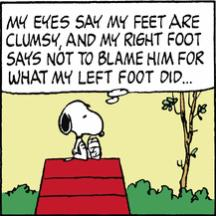snoopy: (58, 100, 106, 162)
